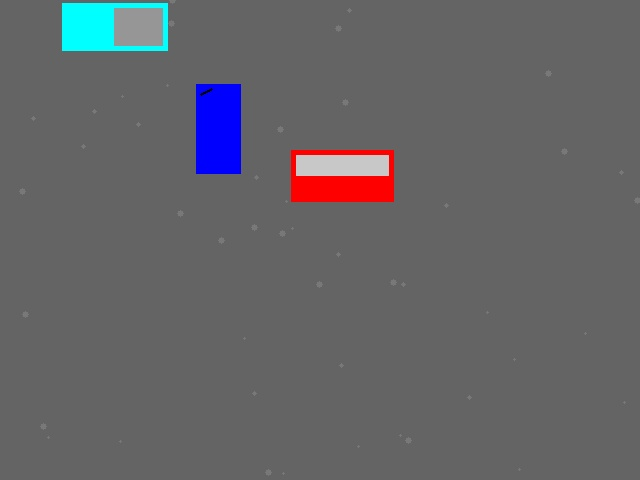car: (291, 150, 393, 201)
motorcycle: (196, 84, 240, 173)
truck: (62, 3, 167, 50)
